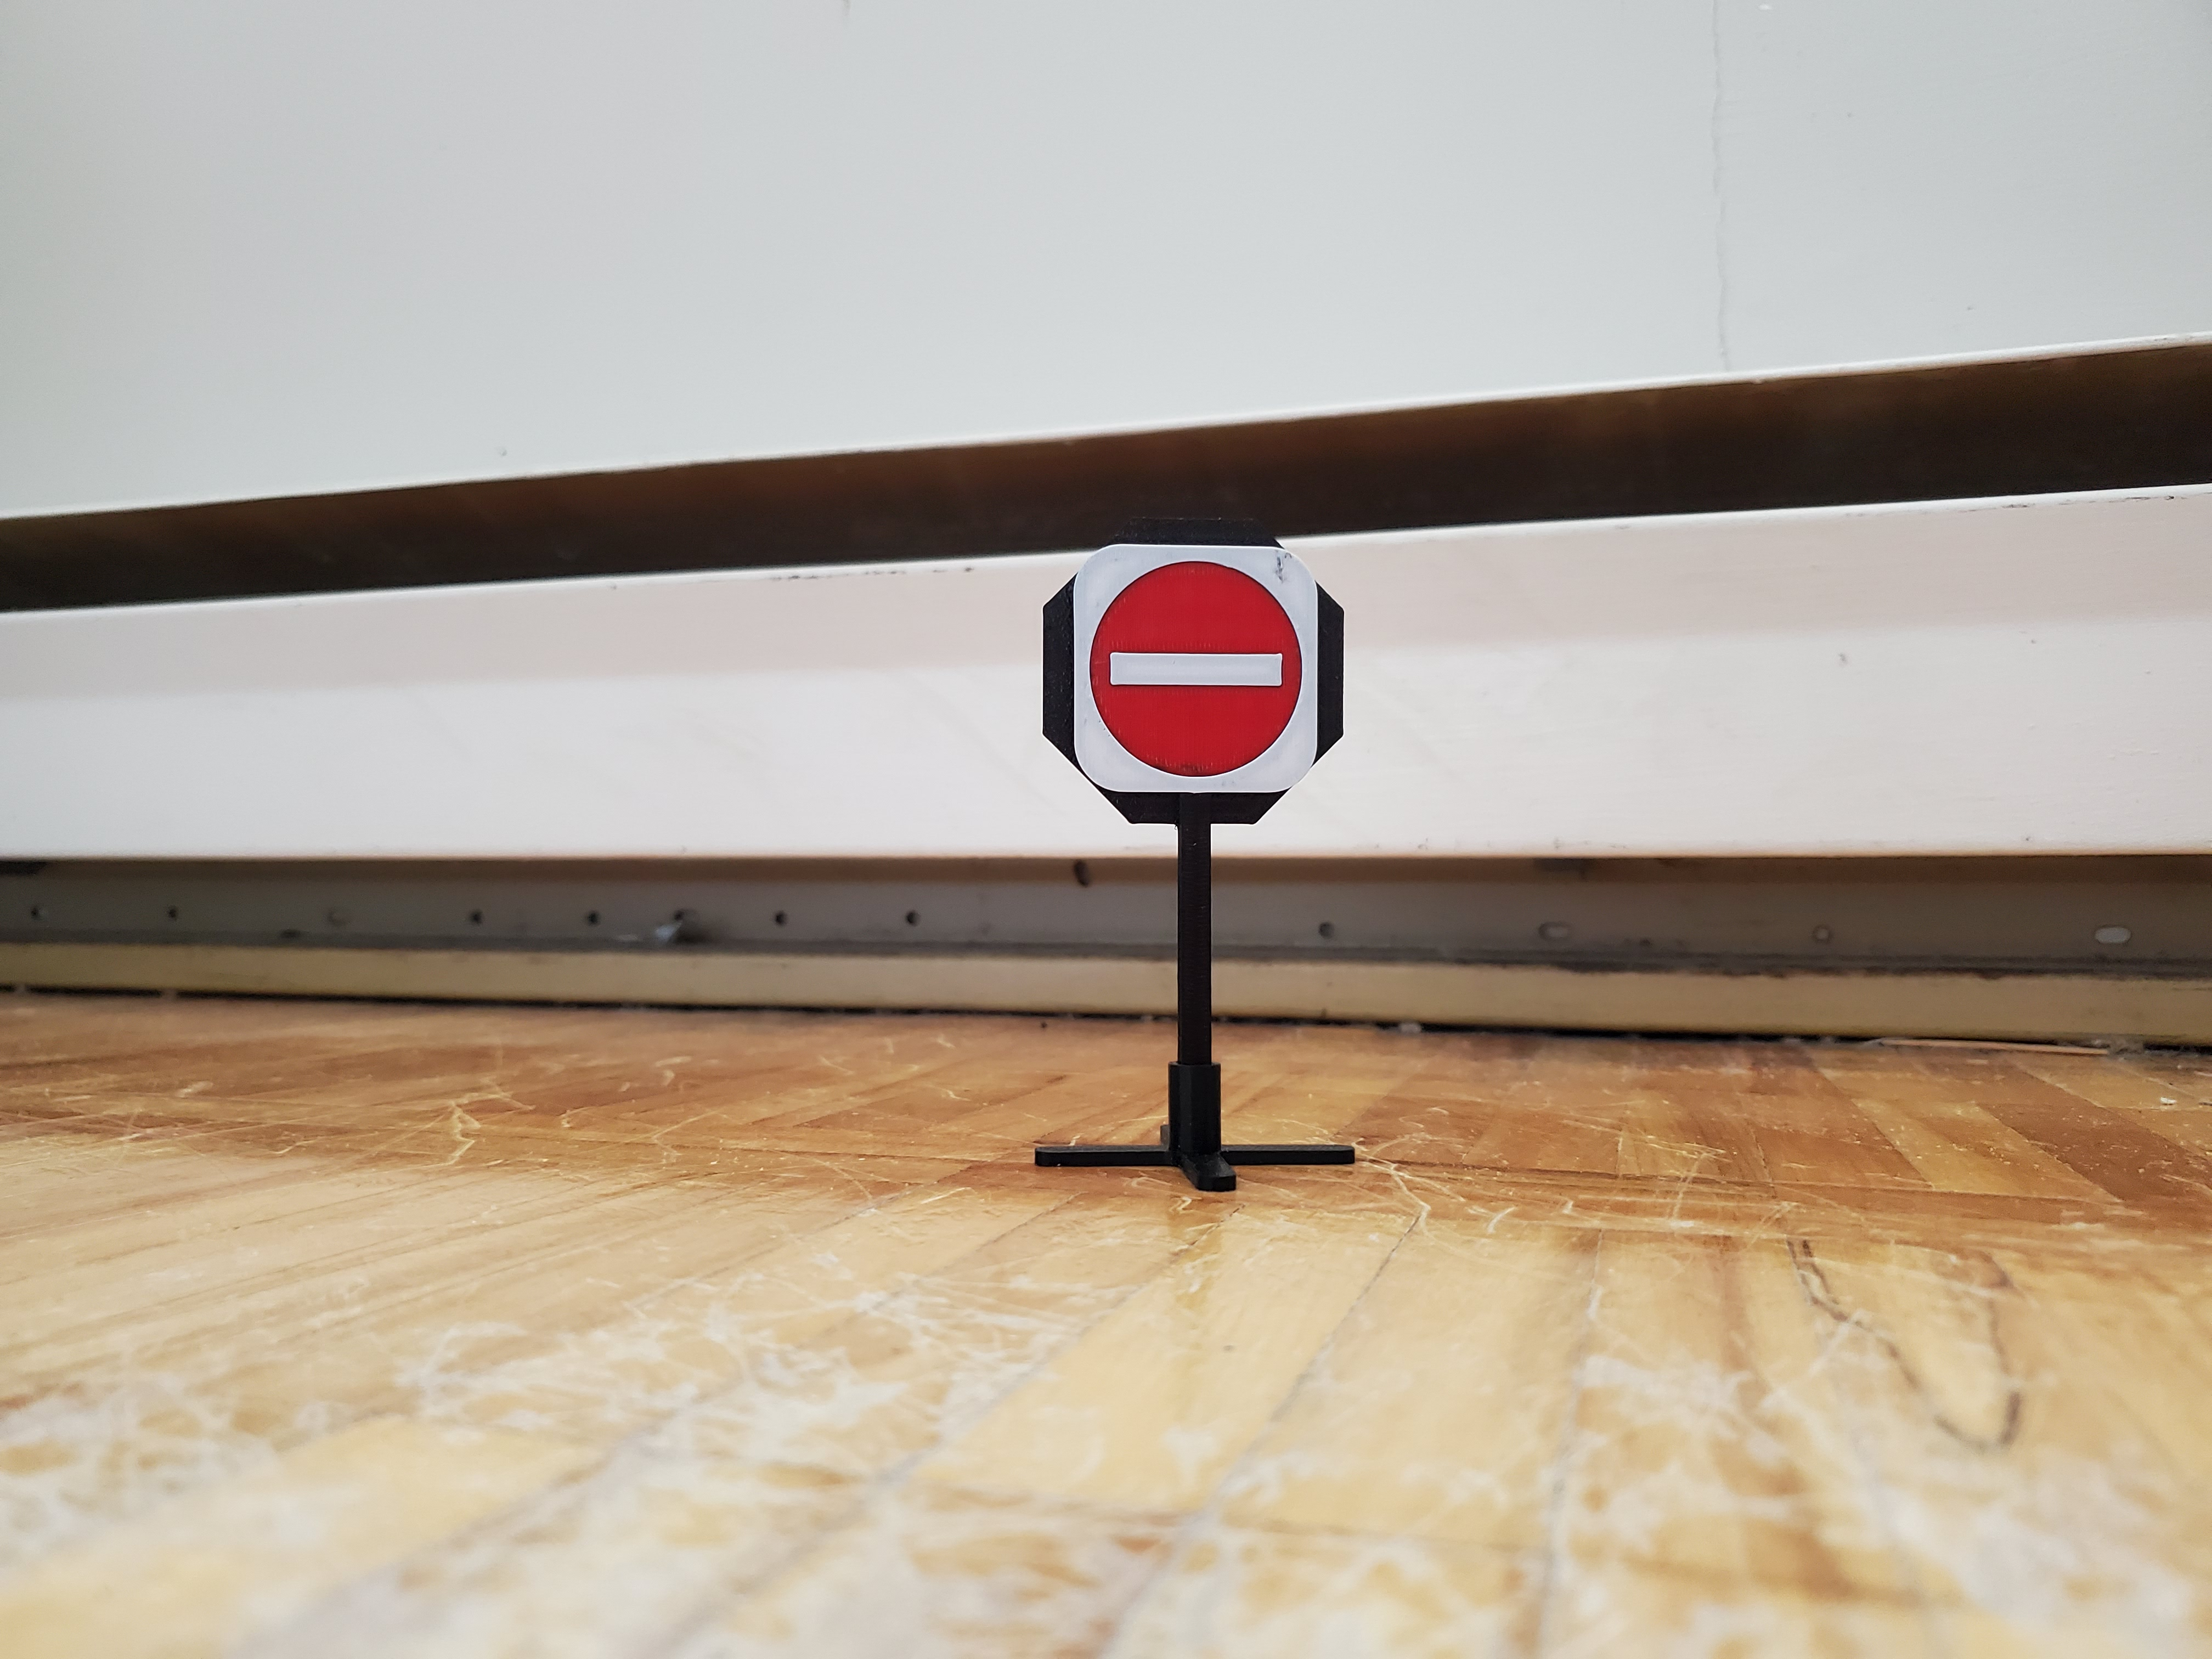sign_noentry: (932, 471, 1449, 1243)
